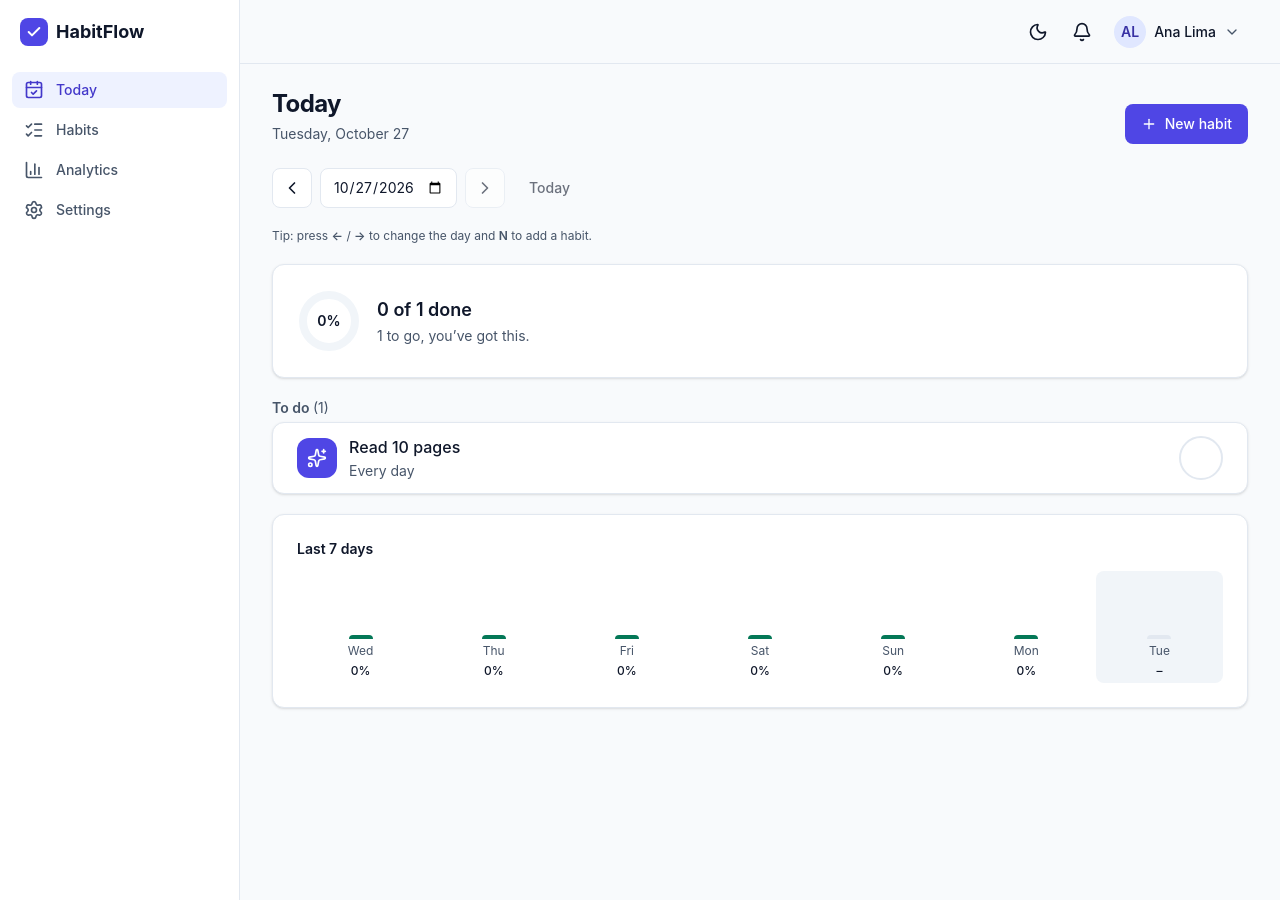
ticking habits › rolls back and explains when the server fails (500)
This screenshot has width=1280, height=900.
Click the button named "Mark Read 10 pages complete" at (1201, 458), box [1179, 436, 1223, 480]
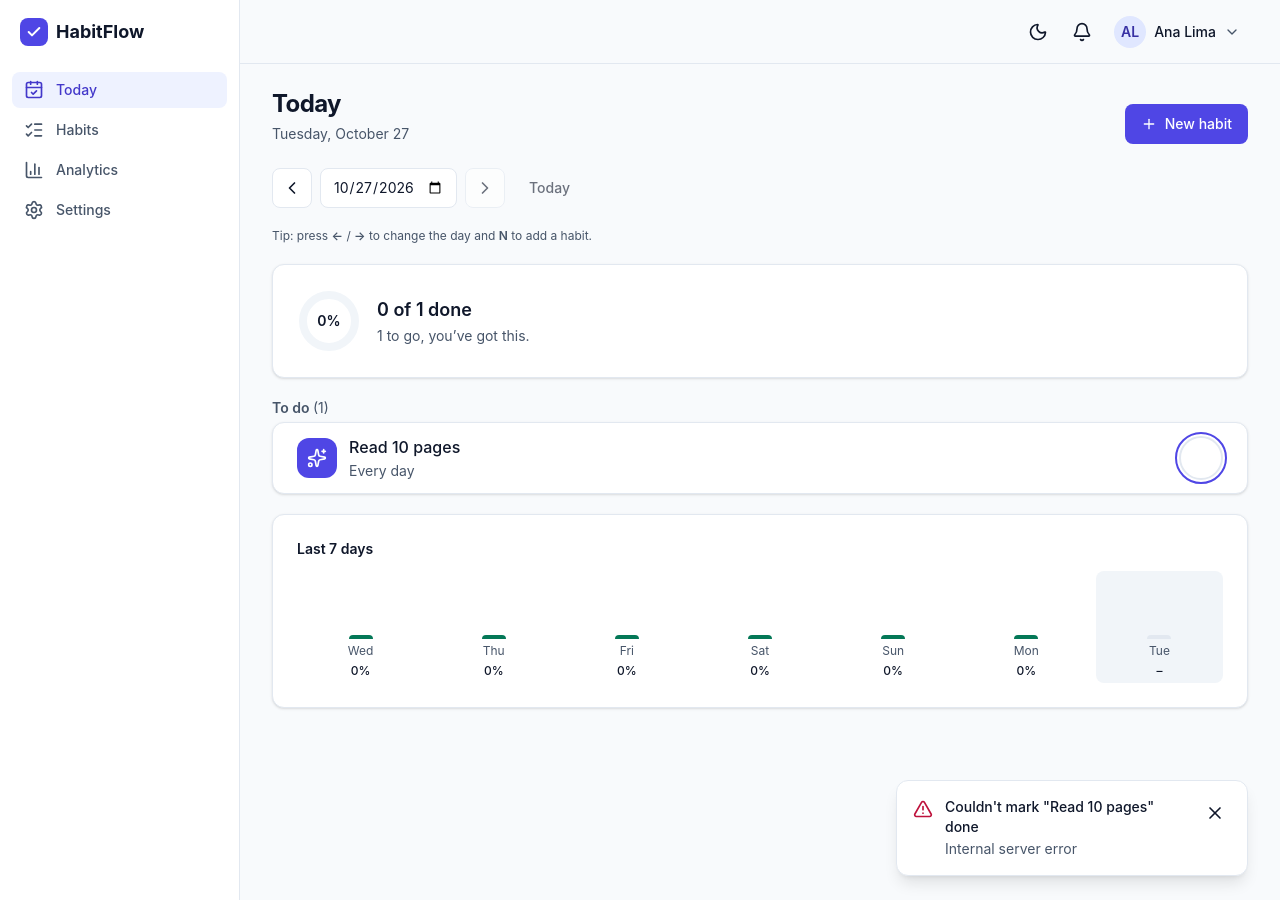
Expected: the element "To do (1) Read 10 pages Every day" is shown, [272, 398, 1248, 494]
Expected: the text "Couldn't mark \"Read 10 pages\" done" is shown, [945, 797, 1187, 837]
